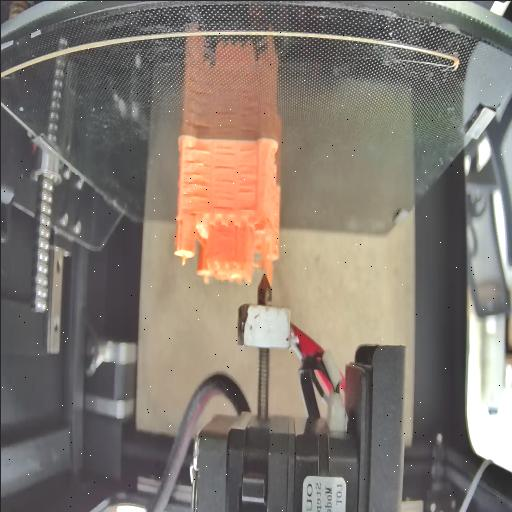cracks: (182, 146, 208, 199), (238, 144, 256, 197), (212, 176, 234, 210), (212, 145, 234, 171), (185, 209, 197, 220), (238, 206, 256, 213)
